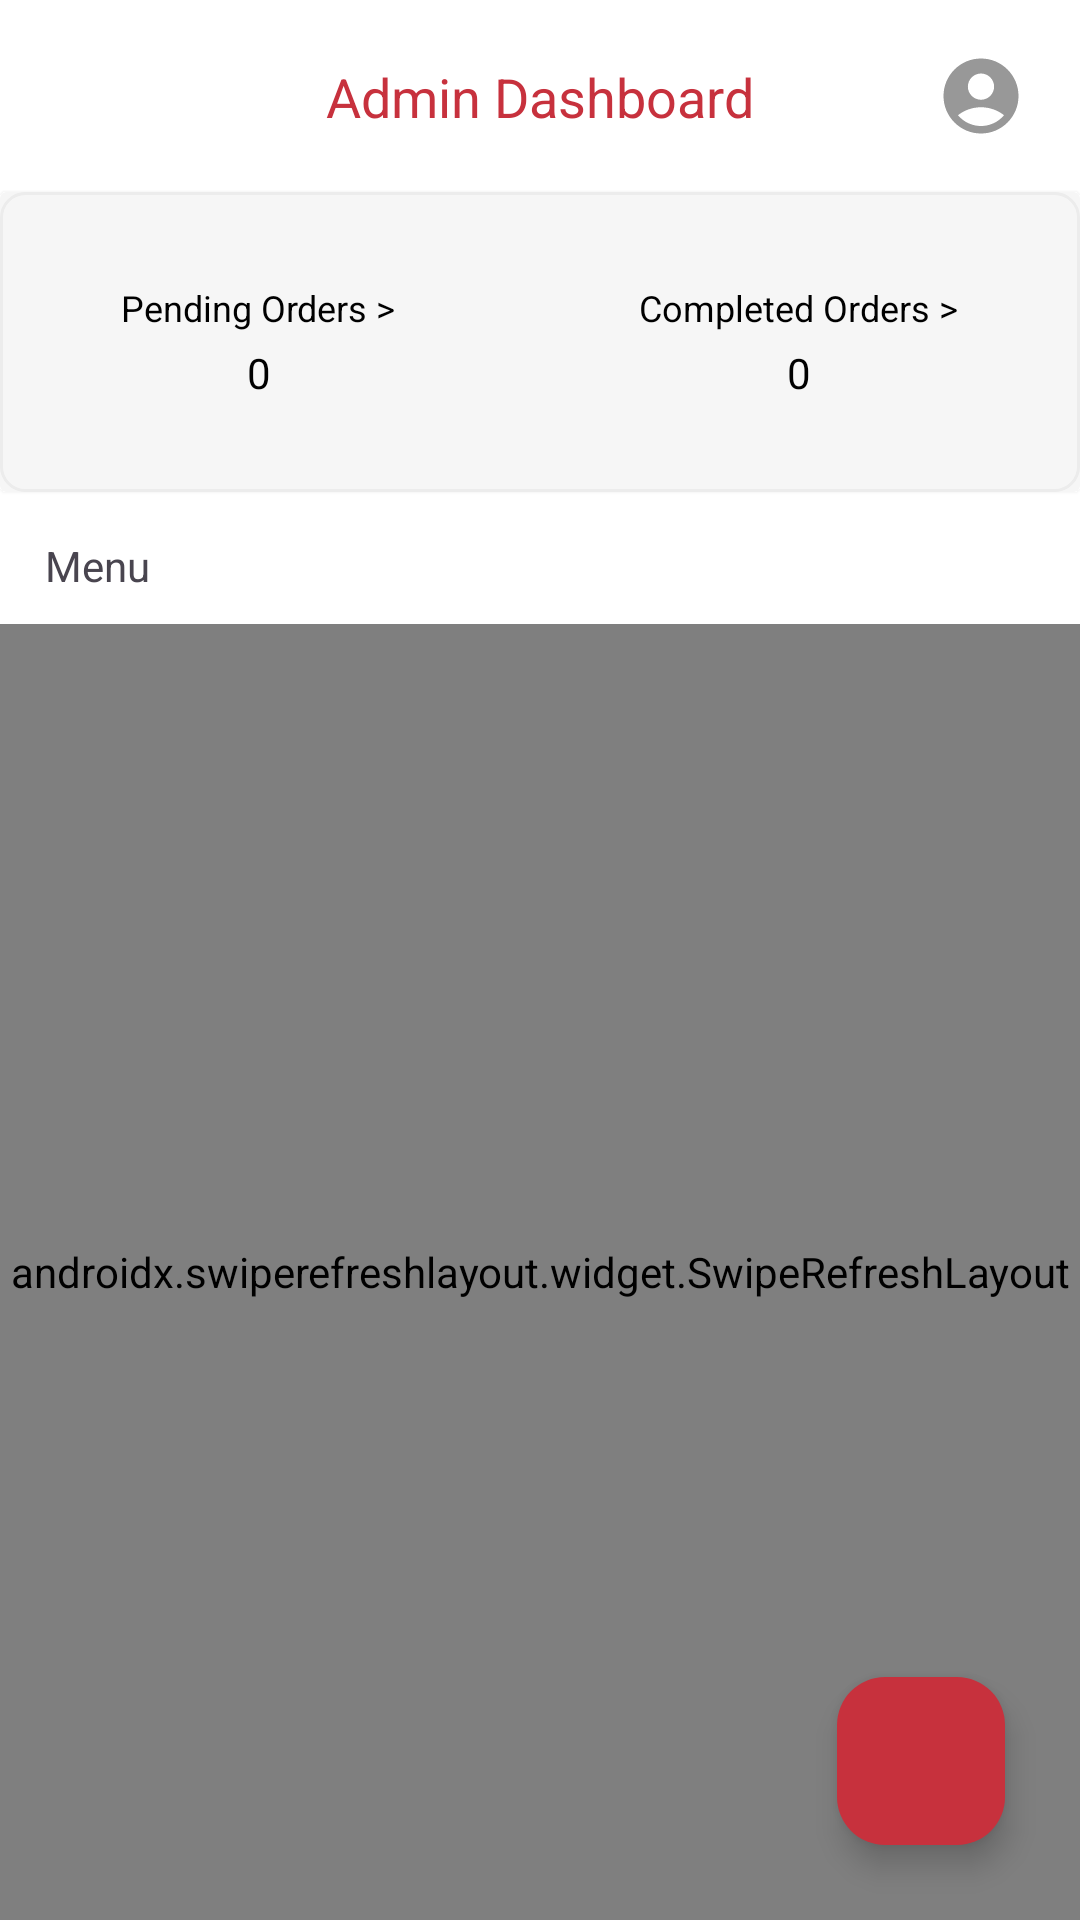

Where icons sit on this 1080*1920 app screen, as [x1=x1, y1=y1, x2=x2, y2=y2]:
account: [x1=943, y1=58, x2=1019, y2=134]
